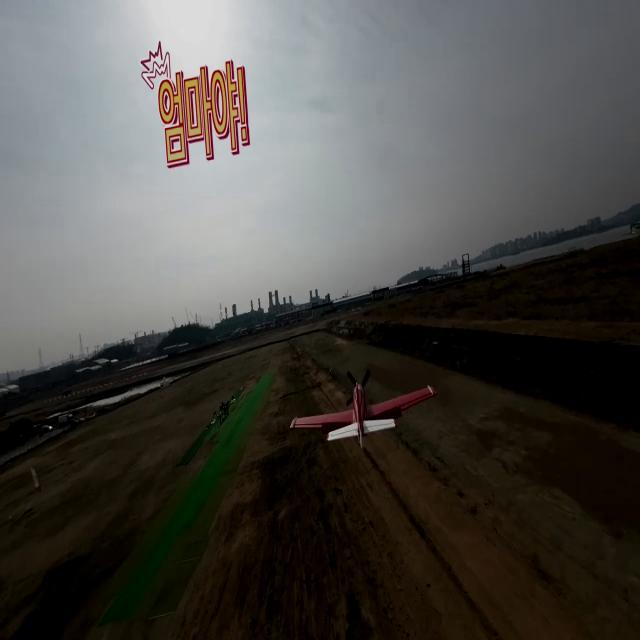iha: (290, 408, 432, 424)
